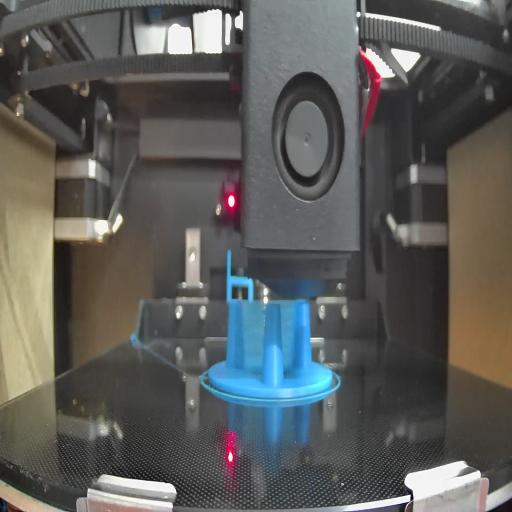stringing: (236, 299, 264, 379), (282, 298, 299, 384)
